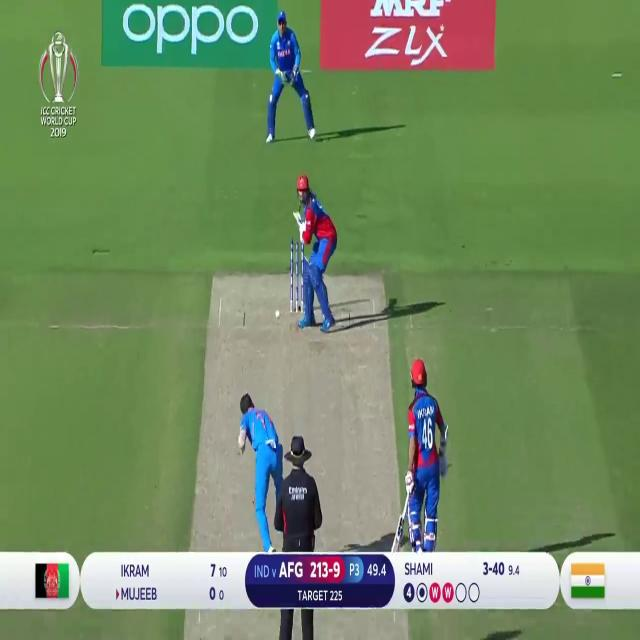ball: (275, 309, 281, 319)
